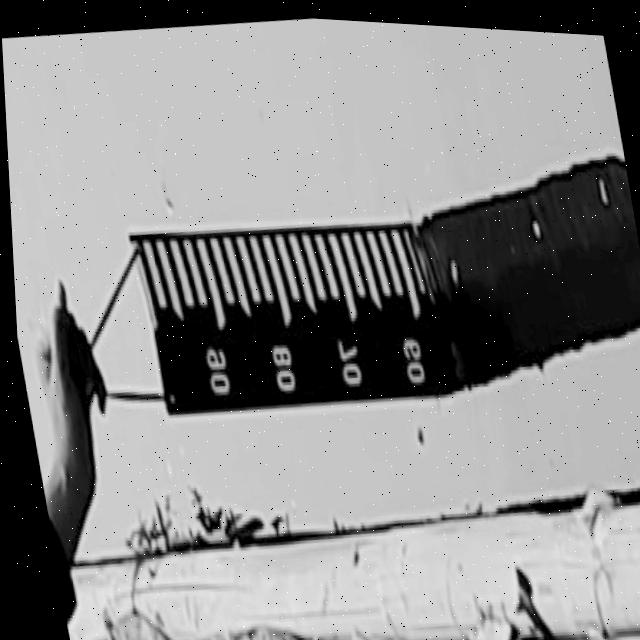water-meter: (110, 178, 484, 471)
